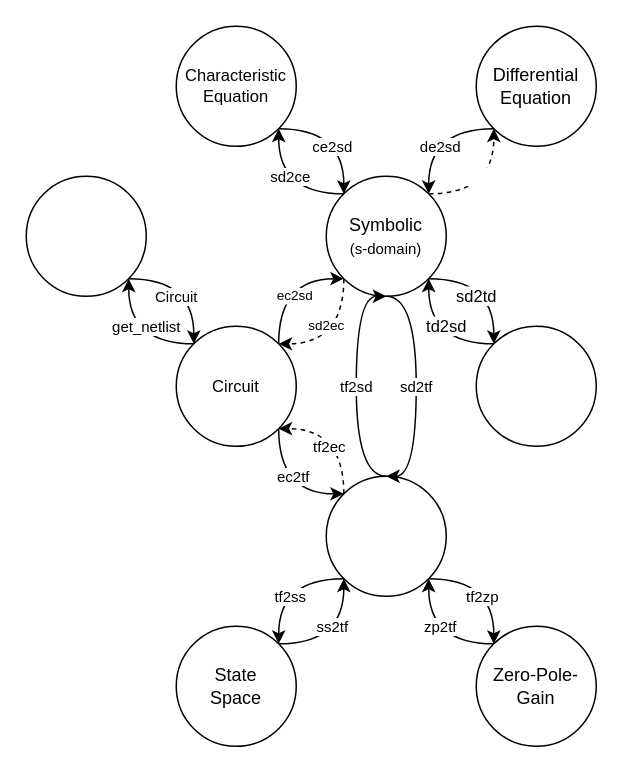
The diagram is 623 pixels wide and 773 high, and some of its shapes have lost their labels. Each missing label, with the centre of its shape:
Netlist: (85,235)
Symbolic (t-domain): (535,385)
Transfer Function: (385,535)
